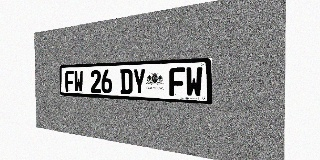2: (91, 70, 101, 93)
6: (101, 69, 112, 93)
D: (120, 69, 132, 94)
F: (169, 67, 185, 96), (65, 71, 74, 92)
W: (185, 67, 203, 97), (74, 70, 83, 92)
Y: (133, 68, 146, 95)
